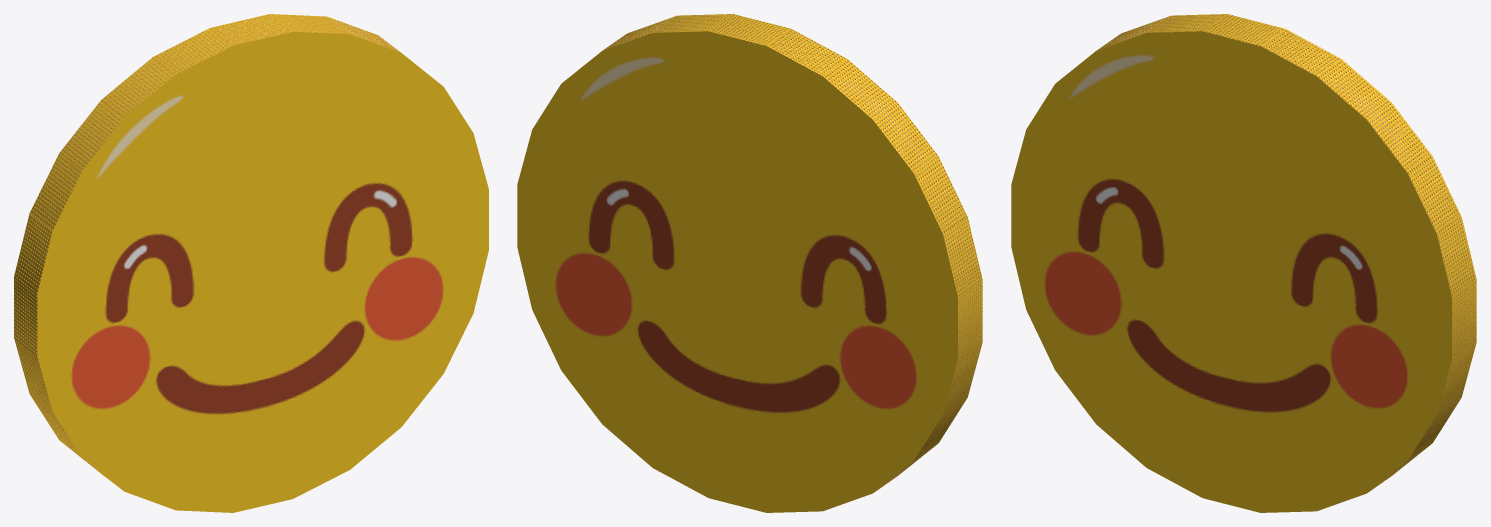
3 views of the same model, side by side, from view 1: azimuth 30°, elevation 25°; view 2: azimuth 150°, elevation 25°; view 3: azimuth 330°, elevation 25° (orthographic).
Visible parts, largest first — view 1: Model; view 2: Model; view 3: Model.
Boxes of the visible parts, box(x1,y1,x2,y2) form: Model: box(14, 14, 488, 512); Model: box(517, 14, 982, 512); Model: box(1011, 14, 1476, 512).
Bounding box in the file's own units: 132 × 132 × 14.87.
Materials: 1 (1 with a texture image).
